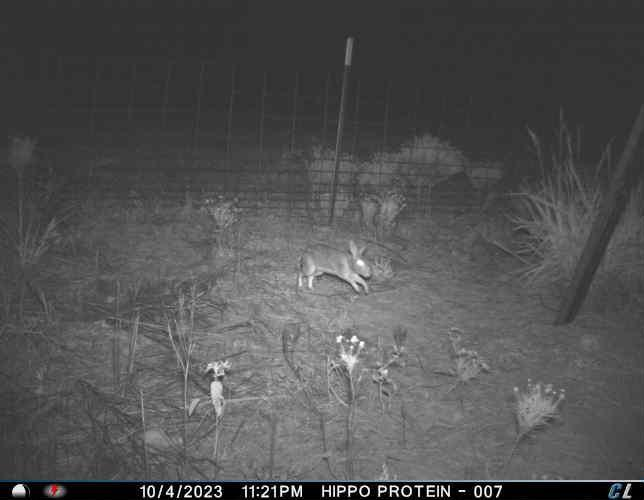Rabbit: (296, 239, 373, 297)
